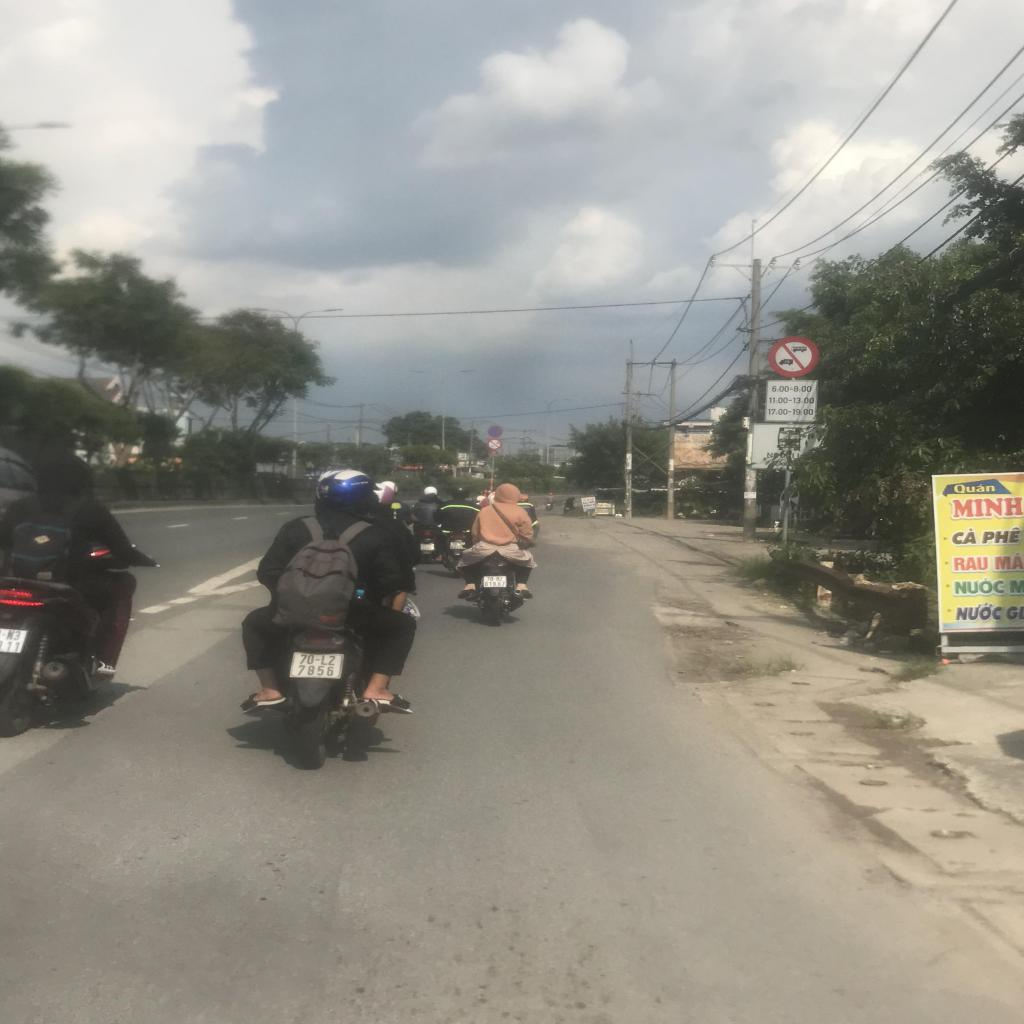cam_dung_xe_va_do_xe: (487, 426, 504, 438)
cam_o_to_tai_va_xe_khach: (768, 336, 820, 378)
cam_xe_2_banh_va_xe_3_banh_co_dong_co: (486, 438, 503, 451)
khac: (750, 424, 827, 472), (764, 380, 818, 422)
